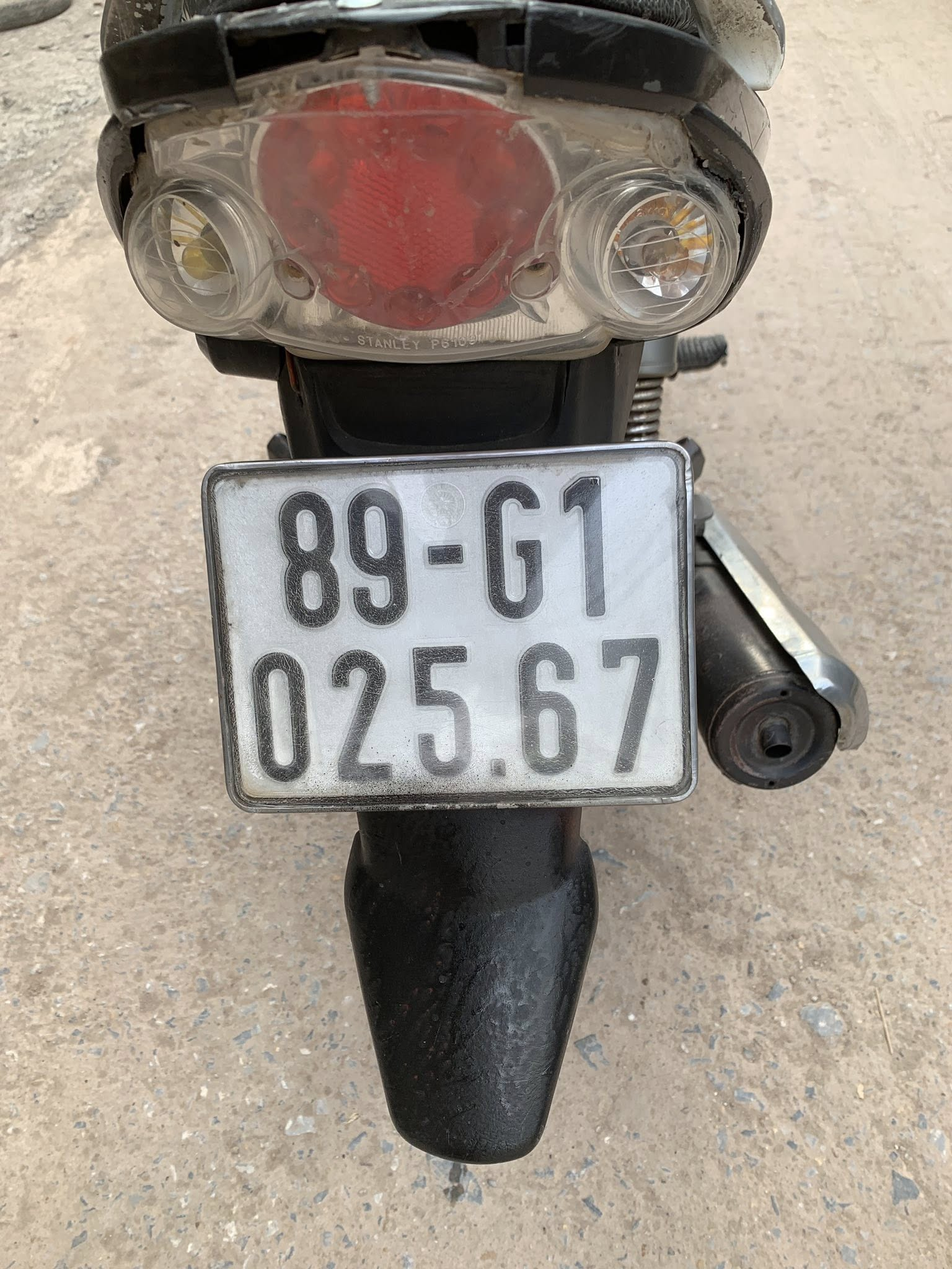bien_so: (183, 421, 713, 834)
